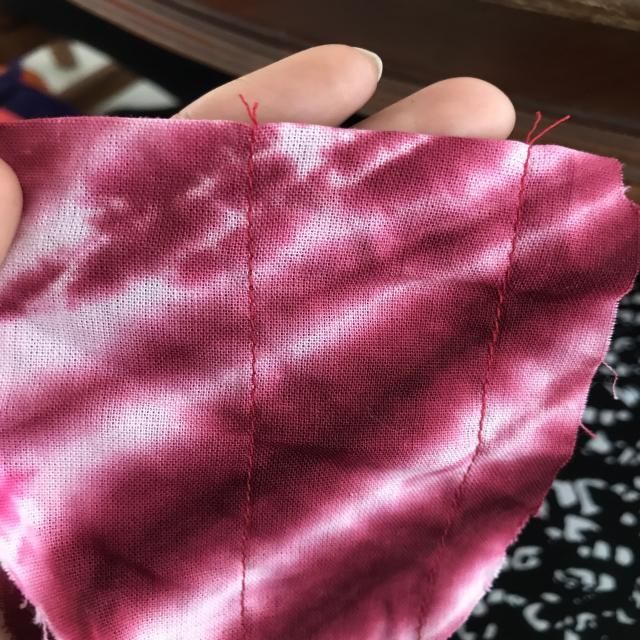good: (230, 206, 276, 280), (230, 452, 270, 527)
